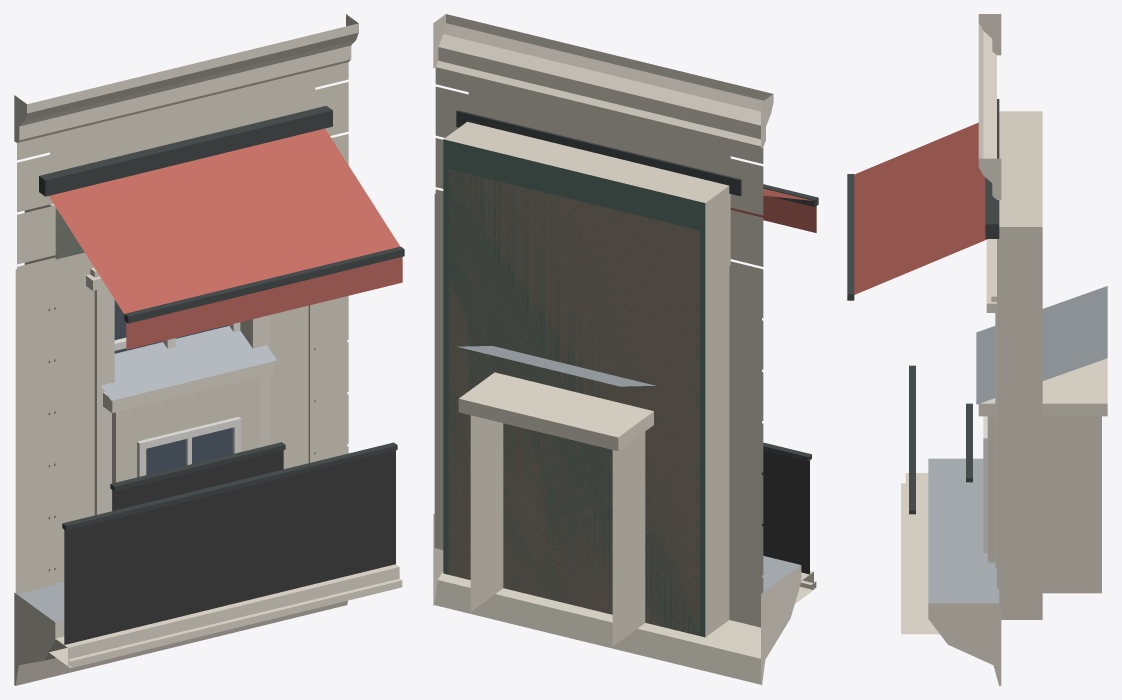
File: facade-basse.glb
3 renders of one model, left to right at view 1: azimuth 30°, elevation 25°; view 2: azimuth 150°, elevation 25°; view 3: azimuth 270°, elevation 25°, orthographic. The views are drawn at different scales.
Parts seen in each view (by area): view 1: store, etage_balcon, rdc_boutique, etage_simple, lucarne, rdc_porte, corniche, etage_balconnet; view 2: rdc_boutique, rdc_porte, lucarne, etage_simple, corniche, etage_balcon, store; view 3: rdc_porte, lucarne, store, corniche, etage_balcon, rdc_boutique, etage_simple, etage_balconnet.
Boxes of the visible parts, left/top/right/bottom form: store: left=39, top=105, right=404, bottom=349; etage_balcon: left=49, top=442, right=402, bottom=668; rdc_boutique: left=14, top=14, right=358, bottom=594; etage_simple: left=15, top=252, right=347, bottom=593; lucarne: left=101, top=325, right=276, bottom=510; rdc_porte: left=17, top=63, right=348, bottom=593; corniche: left=14, top=581, right=347, bottom=685; etage_balconnet: left=110, top=442, right=285, bottom=510; rdc_boutique: left=433, top=14, right=773, bottom=635; rdc_porte: left=435, top=68, right=763, bottom=637; lucarne: left=457, top=346, right=655, bottom=646; etage_simple: left=434, top=194, right=761, bottom=627; corniche: left=433, top=514, right=801, bottom=685; etage_balcon: left=762, top=442, right=816, bottom=603; store: left=456, top=110, right=818, bottom=232; rdc_porte: left=997, top=111, right=1042, bottom=619; lucarne: left=976, top=286, right=1107, bottom=593; store: left=847, top=99, right=999, bottom=300; corniche: left=928, top=458, right=1001, bottom=685; etage_balcon: left=901, top=365, right=939, bottom=634; rdc_boutique: left=978, top=14, right=1001, bottom=199; etage_simple: left=985, top=239, right=996, bottom=568; etage_balconnet: left=966, top=403, right=972, bottom=482.
Size of the model in its own units: 3 by 5.1 by 2.28.
